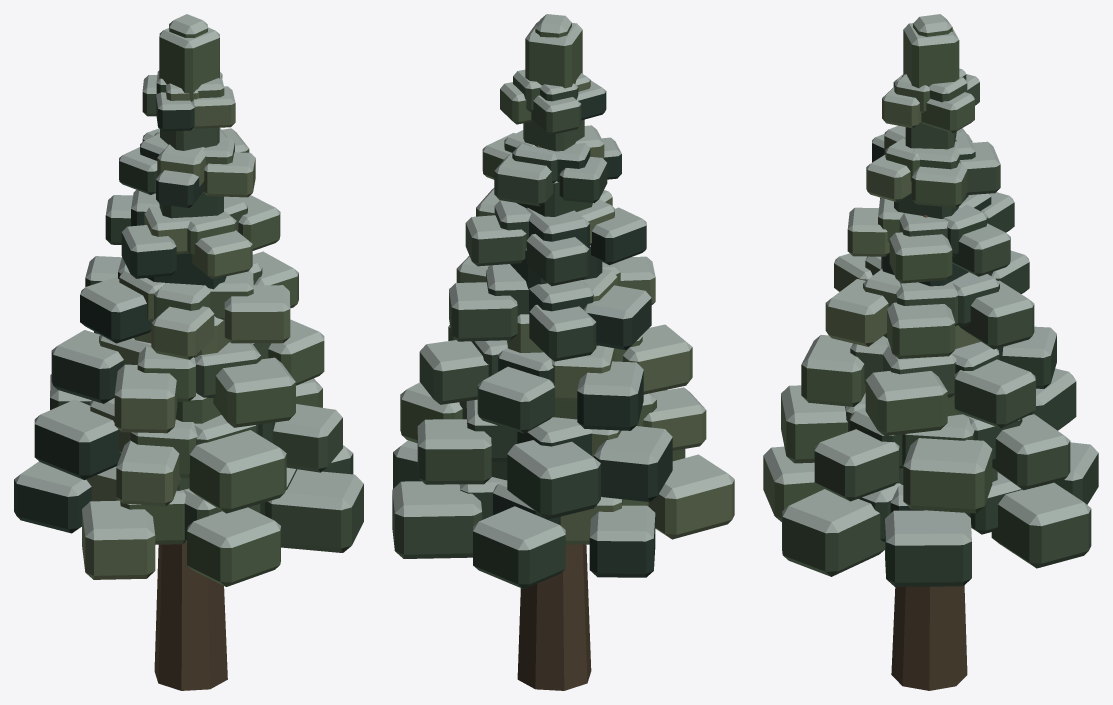
The model's file is pine_ancient_winter.glb.
3 views of the same model, side by side, from view 1: azimuth 30°, elevation 25°; view 2: azimuth 150°, elevation 25°; view 3: azimuth 270°, elevation 25° (orthographic).
Parts seen in each view (by area): view 1: pine_ancient_winter; view 2: pine_ancient_winter; view 3: pine_ancient_winter.
Part boxes in pixels (x1=…): pine_ancient_winter: x1=14, y1=14, x2=363, y2=690; pine_ancient_winter: x1=392, y1=14, x2=734, y2=690; pine_ancient_winter: x1=763, y1=14, x2=1098, y2=690.
Size of the model in its own units: 12.37 by 27 by 12.52.
